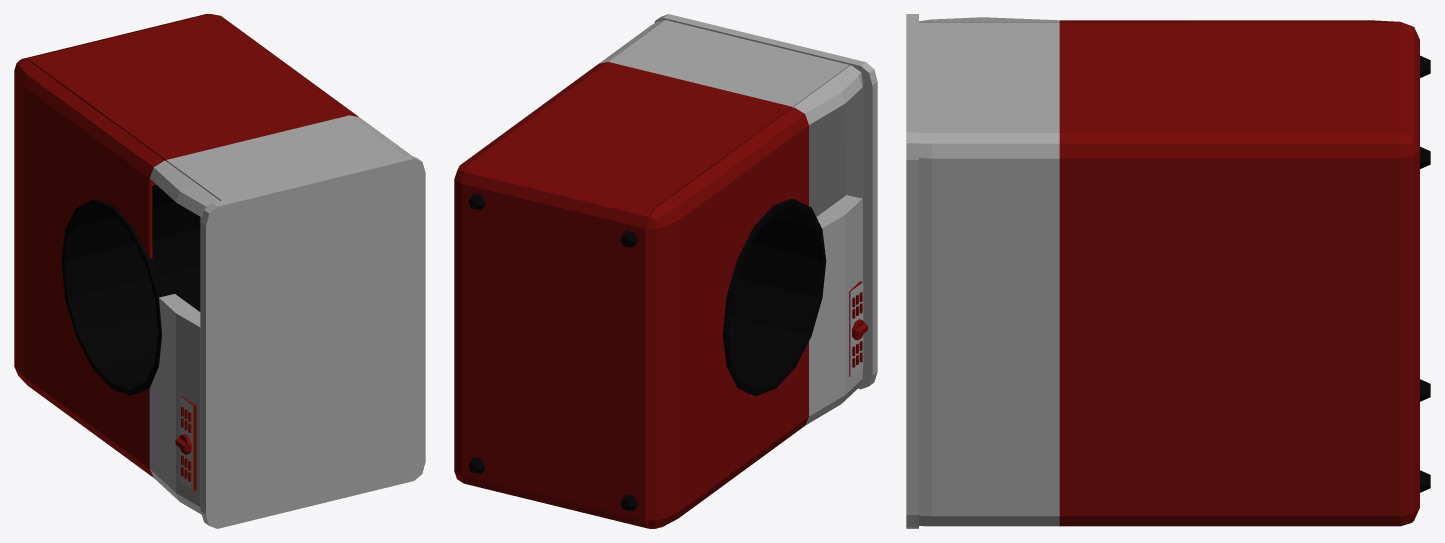
Rendered from corpus.obj.
3 renders of one model, left to right at view 1: azimuth 30°, elevation 25°; view 2: azimuth 150°, elevation 25°; view 3: azimuth 270°, elevation 25°, orthographic. The views are drawn at different scales.
Visible parts, largest first — view 1: Cube.059_Cube.113_basic_2, Cube.059_Cube.113_basic_1, Cube.059_Cube.113_darck; view 2: Cube.059_Cube.113_basic_1, Cube.059_Cube.113_basic_2, Cube.059_Cube.113_darck; view 3: Cube.059_Cube.113_basic_1, Cube.059_Cube.113_basic_2, Cube.059_Cube.113_darck.
Part boxes in pixels (x1=…): Cube.059_Cube.113_basic_2: x1=149, y1=115, x2=425, y2=528; Cube.059_Cube.113_basic_1: x1=14, y1=14, x2=358, y2=490; Cube.059_Cube.113_darck: x1=61, y1=185, x2=200, y2=395; Cube.059_Cube.113_basic_1: x1=454, y1=62, x2=867, y2=528; Cube.059_Cube.113_basic_2: x1=599, y1=14, x2=877, y2=425; Cube.059_Cube.113_darck: x1=468, y1=193, x2=826, y2=510; Cube.059_Cube.113_basic_1: x1=1059, y1=20, x2=1419, y2=526; Cube.059_Cube.113_basic_2: x1=906, y1=14, x2=1059, y2=528; Cube.059_Cube.113_darck: x1=1420, y1=55, x2=1430, y2=492.
Size of the model in its own units: 0.0861 by 0.1174 by 0.1407.
